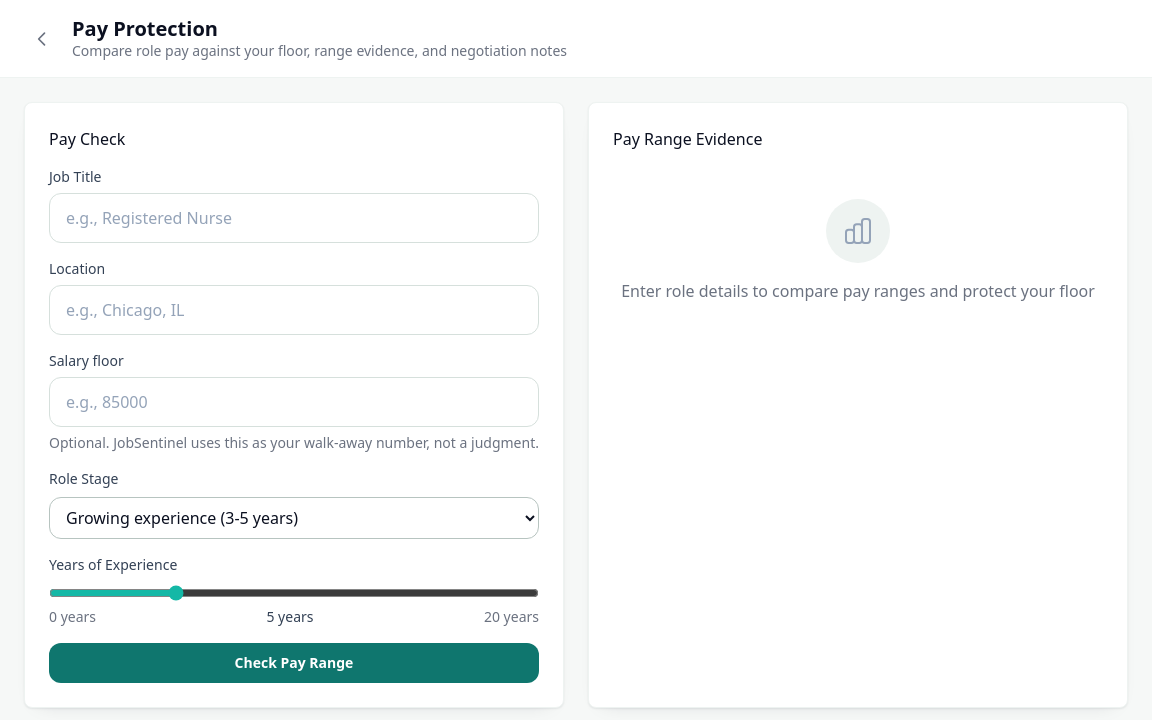
Test: Salary › keeps no-data result visible after checking pay
Type "Security Engineer" into the field labelled "Job Title". click: {"x": 294, "y": 218}
box: [49,193,539,243]
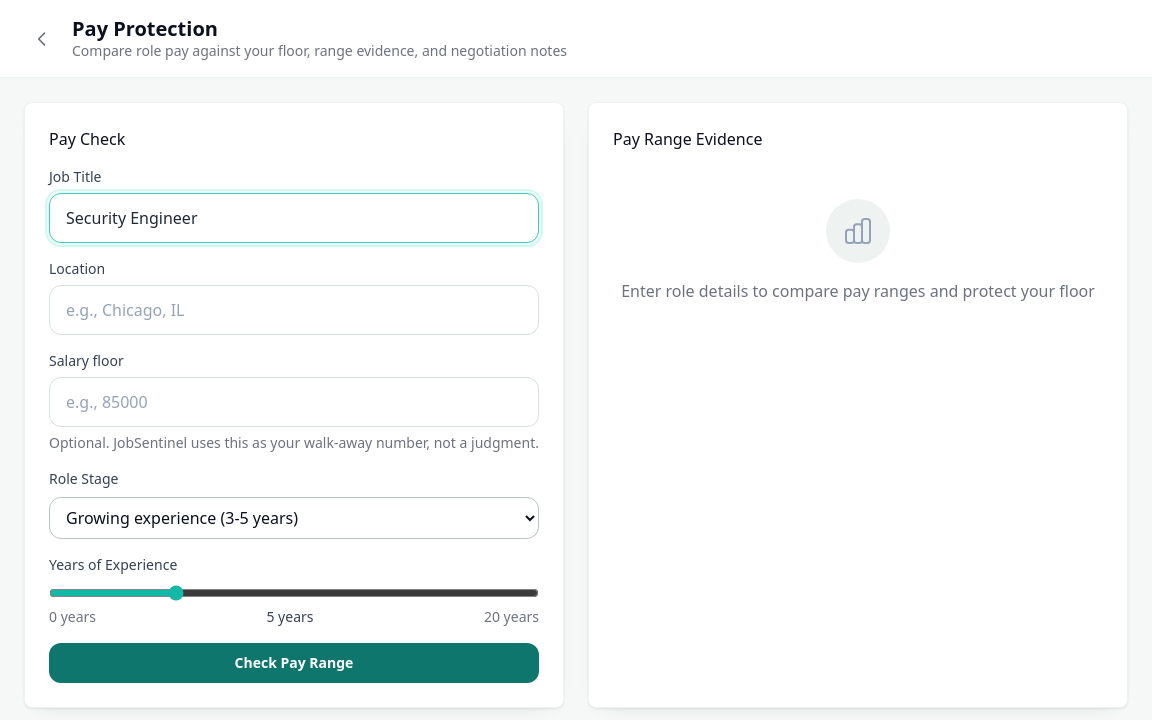
Type "Denver, CO" into the field labelled "Location". click: {"x": 294, "y": 310}
box: [49,285,539,335]
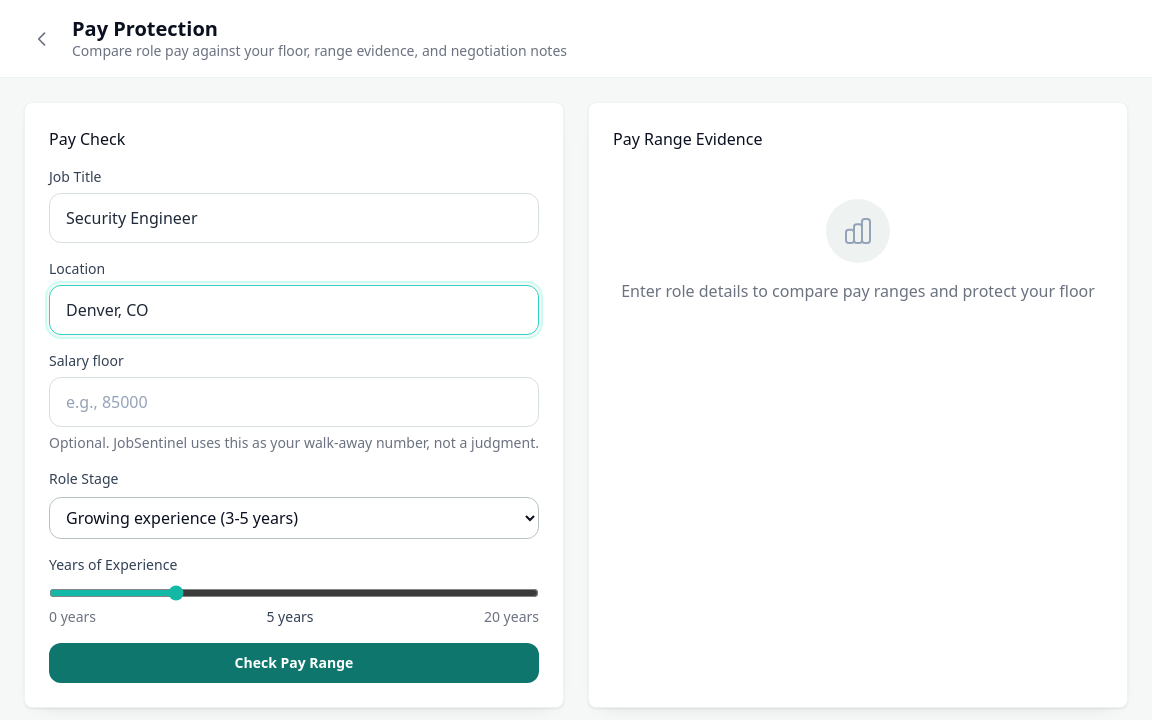
Click the button "Check Pay Range". click: {"x": 294, "y": 663}
box: [49,643,539,683]
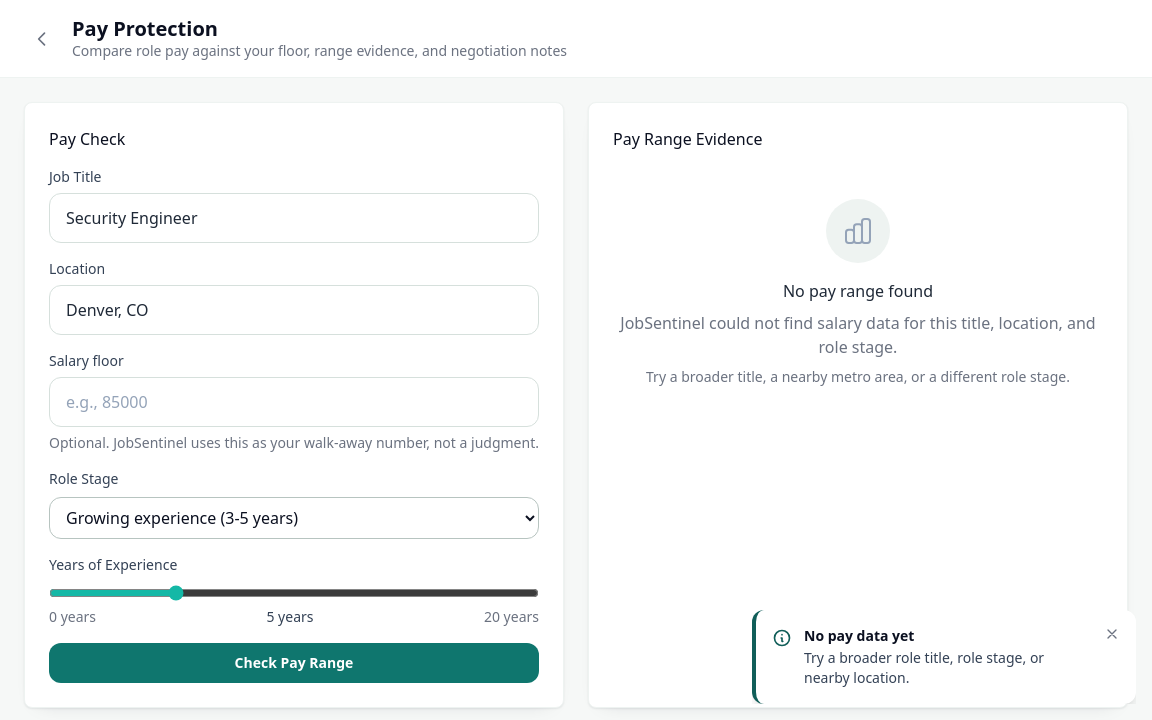
Expected: the text "No pay range found" is shown, [783,280,933,302]
Expected: the text "could not find salary data for this title, location, and role stage" is shown, [620,312,1096,358]
